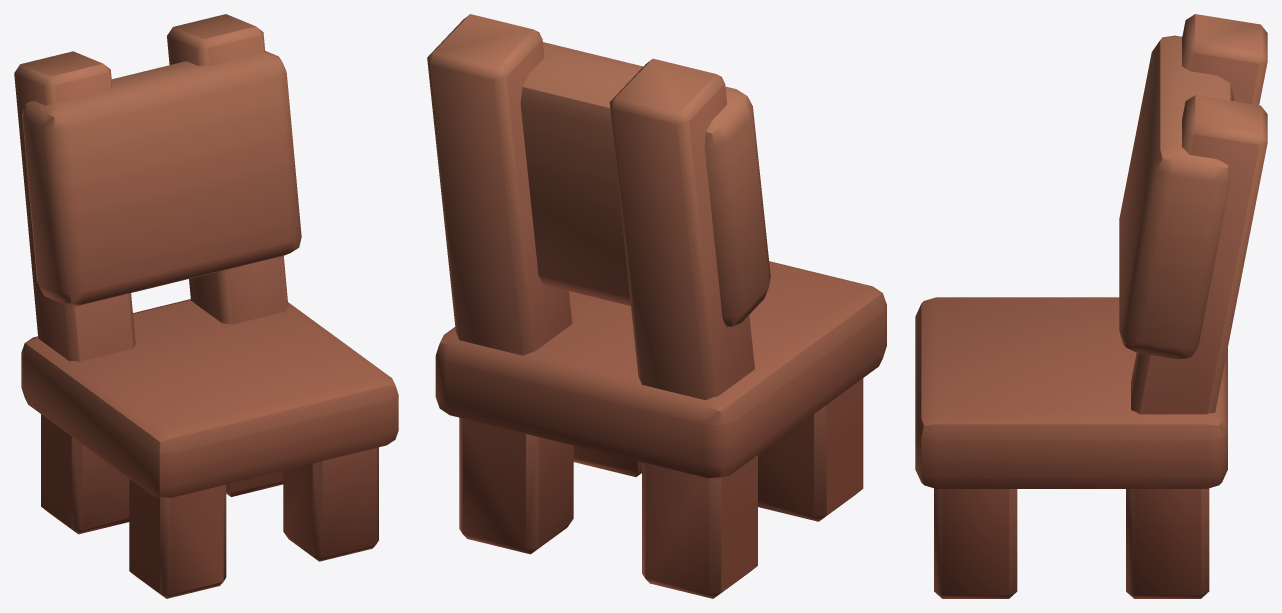
The model's file is kay-cadeira-encosto.gltf.
The picture shows the model from 3 angles, left to right: view 1: azimuth 30°, elevation 25°; view 2: azimuth 150°, elevation 25°; view 3: azimuth 270°, elevation 25°; orthographic projection. The views are drawn at different scales.
Visible parts, largest first — view 1: chair_B_wood; view 2: chair_B_wood; view 3: chair_B_wood.
Part boxes in pixels (x1=…): chair_B_wood: x1=14, y1=14, x2=398, y2=598; chair_B_wood: x1=427, y1=14, x2=886, y2=598; chair_B_wood: x1=915, y1=14, x2=1267, y2=598.
Bounding box in the file's own units: 0.4875 × 0.8179 × 0.5493.
Materials: 1 (1 with a texture image).
